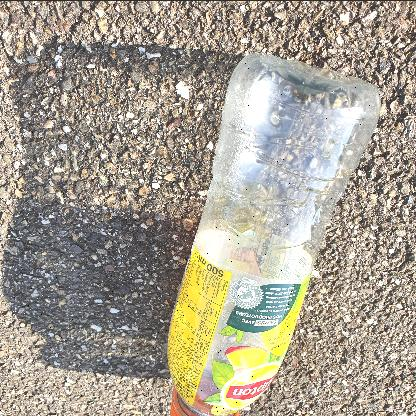Plastic Bottle: (167, 52, 381, 416)
